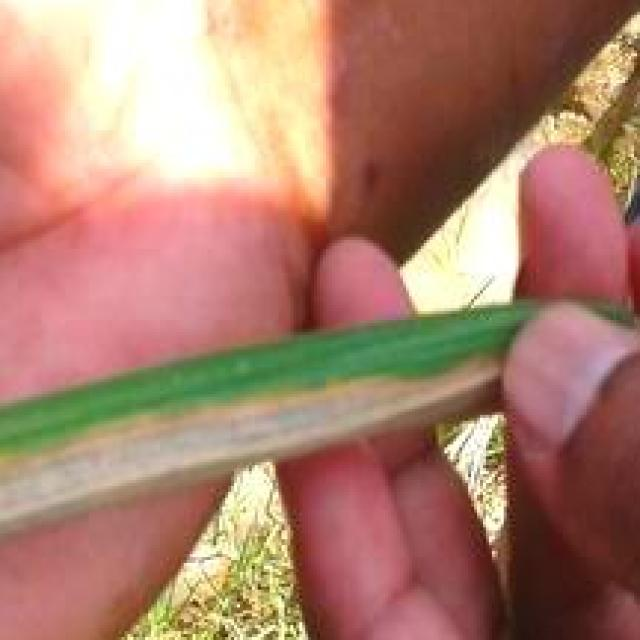Bacterial_Leaf_Blight: (50, 358, 554, 462)
